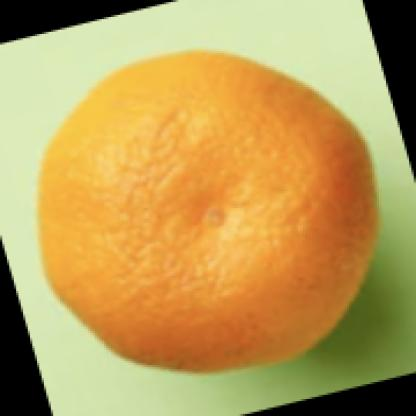fresh: (49, 54, 378, 369)
